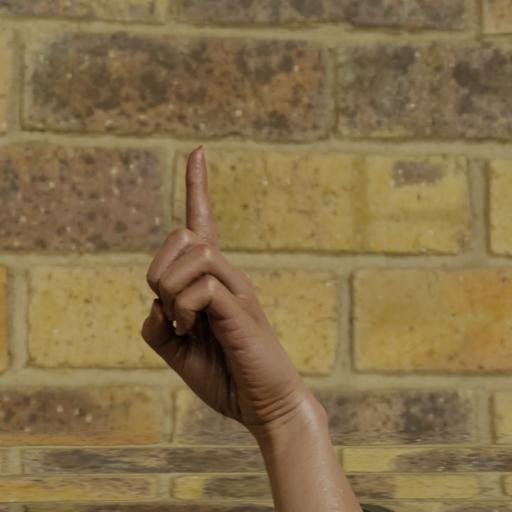D: (111, 142, 360, 512)
